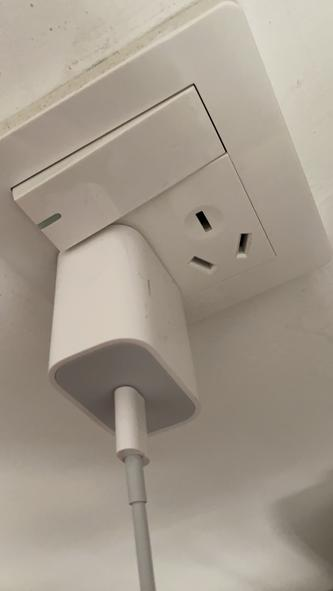switch: (14, 106, 225, 225)
